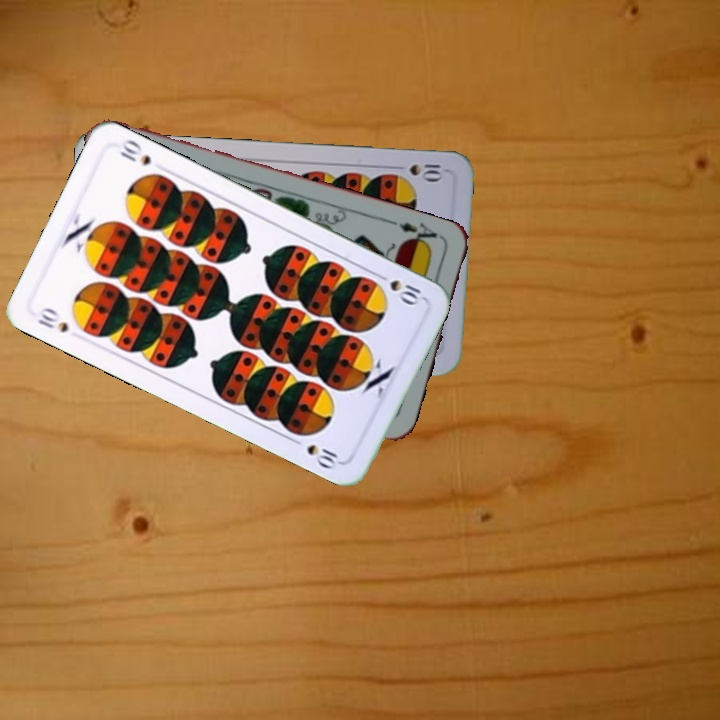EA: (388, 217, 446, 250)
S10: (372, 269, 426, 308), (389, 160, 446, 183), (33, 303, 71, 335)
